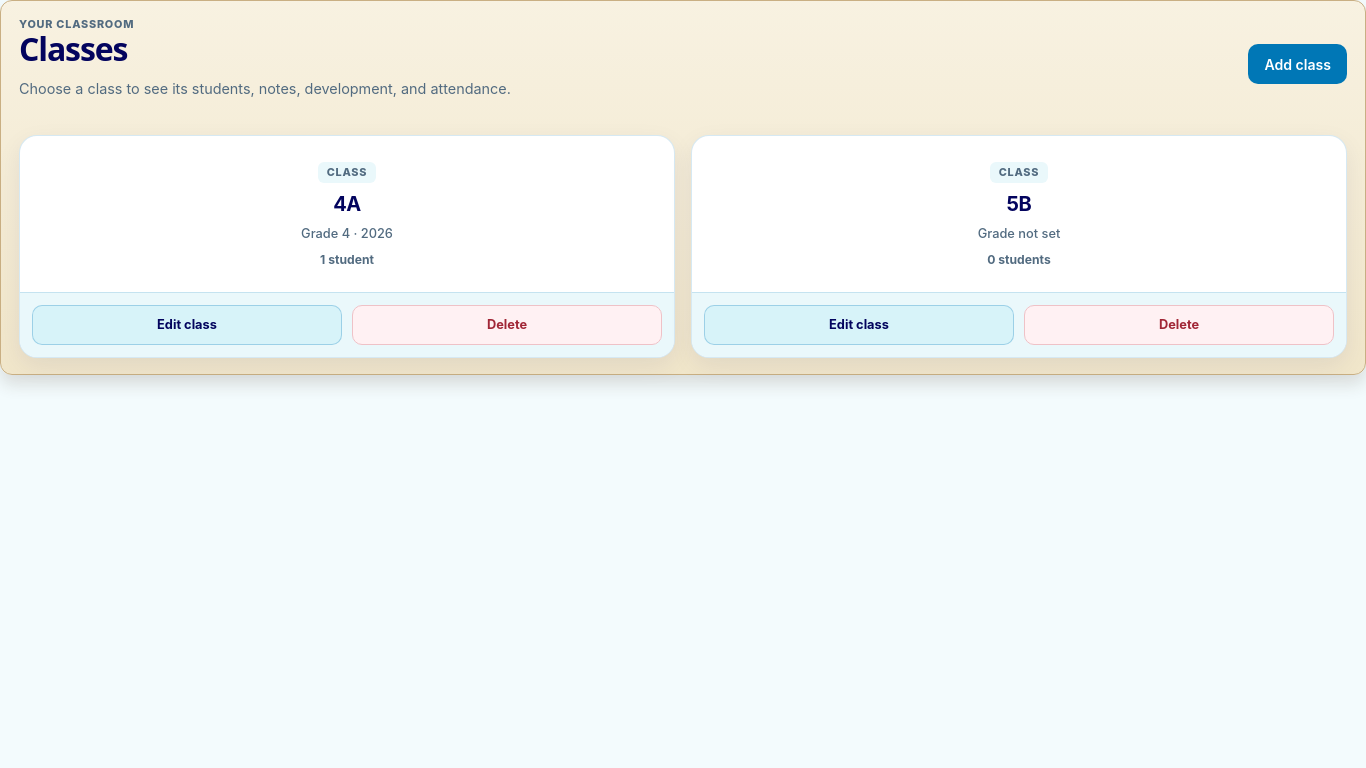
Test: handles missing optional details and resets the draft when editing a different class
This screenshot has width=1366, height=768.
Click the button with aria-label "Edit 4A". click: (187, 325)
box: [32,305,342,345]
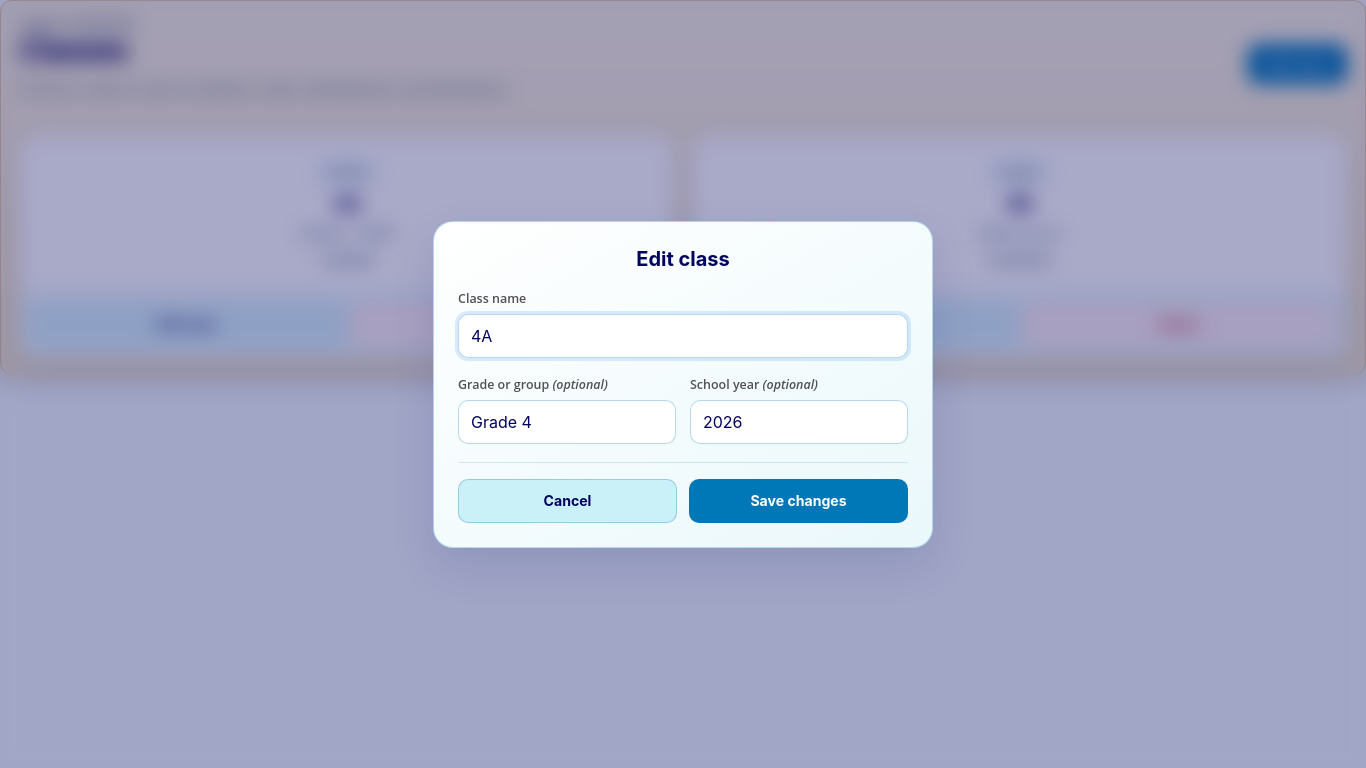
Press Escape
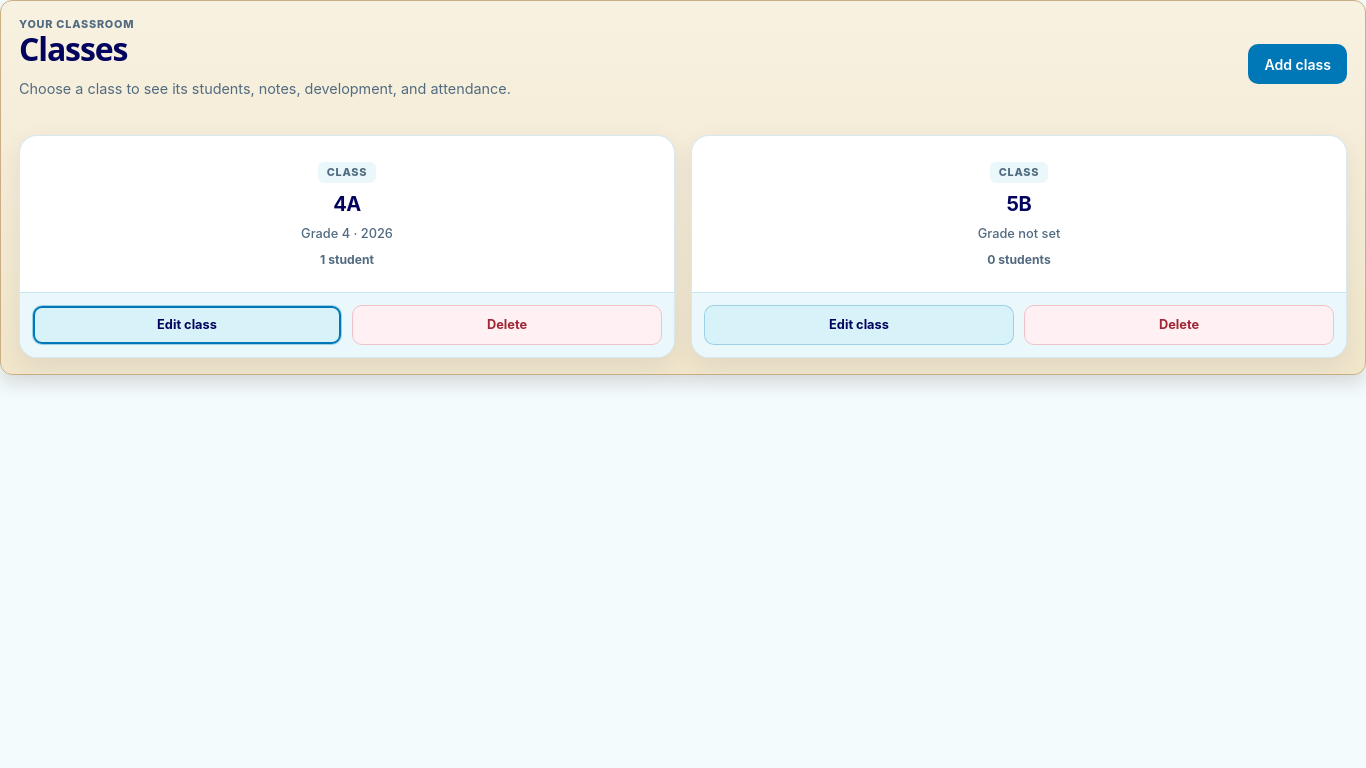
Click the button with aria-label "Edit 5B". click: (859, 325)
box: [704,305,1014,345]
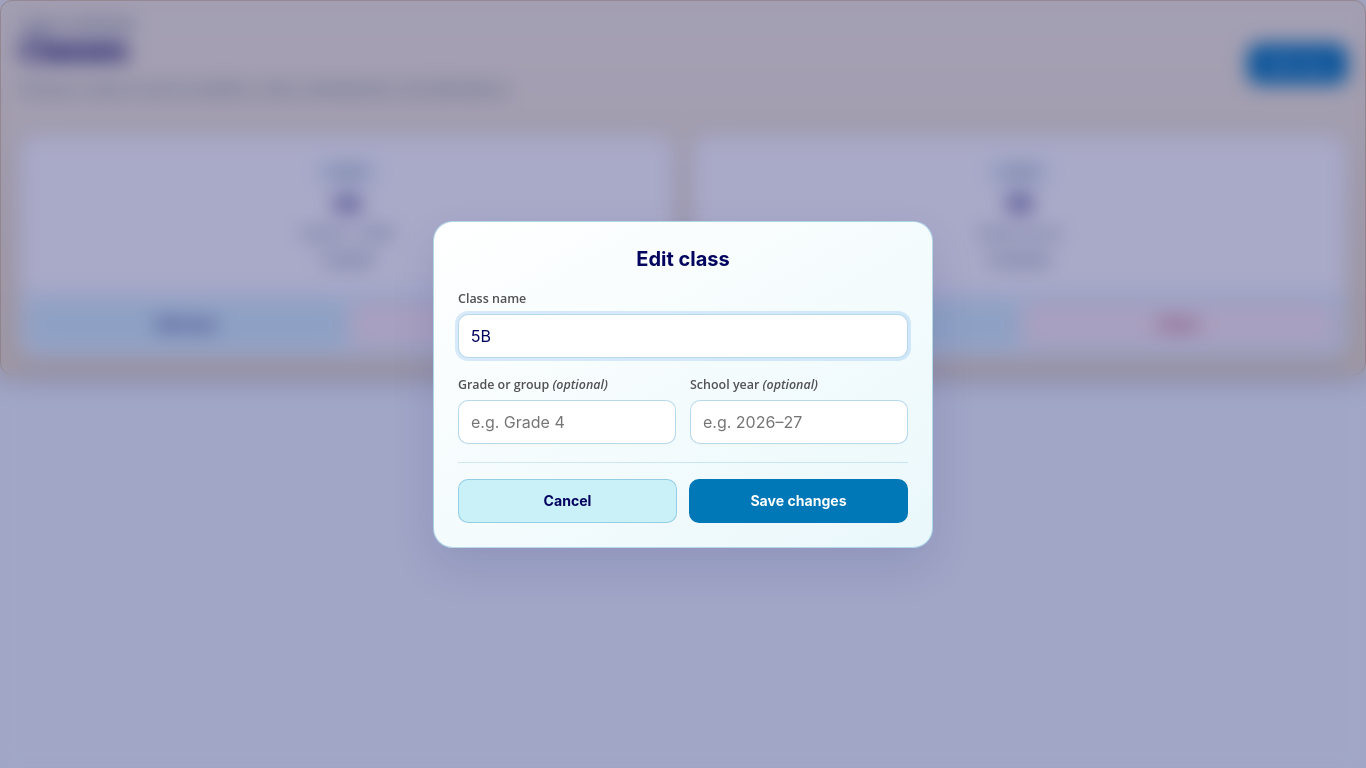
expect the field labelled "Class name" holds "5B": met, box [458,314,908,358]
expect the field labelled "Grade or group (optional)" is empty: met, box [458,400,676,444]
expect the field labelled "School year (optional)" is empty: met, box [690,400,908,444]
